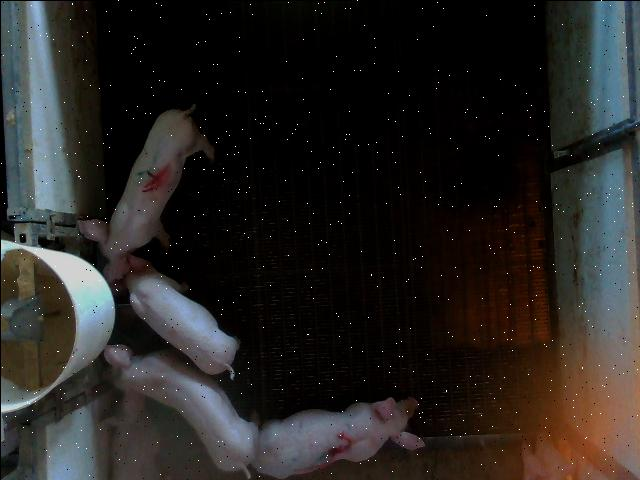pig-3: (251, 396, 424, 477)
pig-4: (80, 104, 214, 282)
